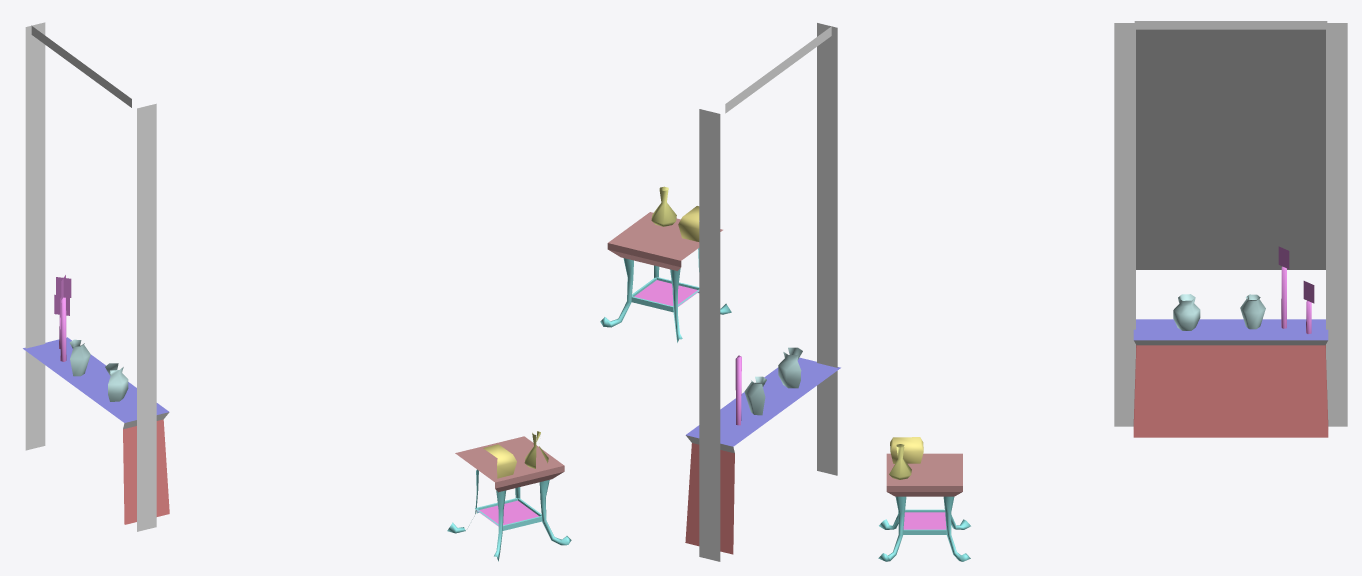
File: interior_B_delf_store_09.gltf
3 views of the same model, side by side, from view 1: azimuth 30°, elevation 25°; view 2: azimuth 150°, elevation 25°; view 3: azimuth 270°, elevation 25° (orthographic). The views are drawn at different scales.
Parts seen in each view (by area): view 1: interior_B_delf_store_09; view 2: interior_B_delf_store_09; view 3: interior_B_delf_store_09.
Boxes of the visible parts, x1,y1,x2,y2 form: interior_B_delf_store_09: [23, 22, 571, 561]; interior_B_delf_store_09: [600, 23, 840, 561]; interior_B_delf_store_09: [878, 21, 1347, 561].
Size of the model in its own units: 0.9907 by 1.26 by 1.33.
